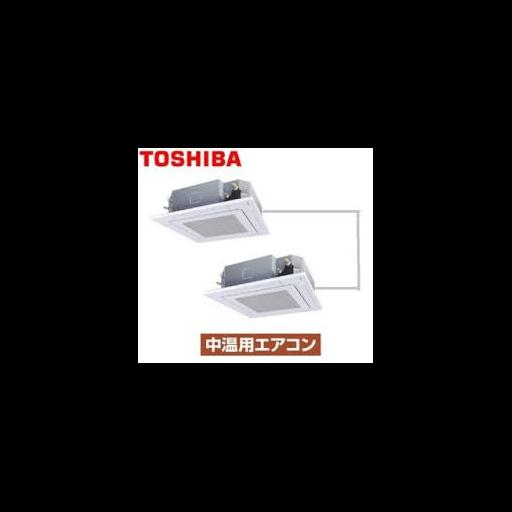4-way-ac: (206, 272, 324, 320), (155, 196, 271, 242)
